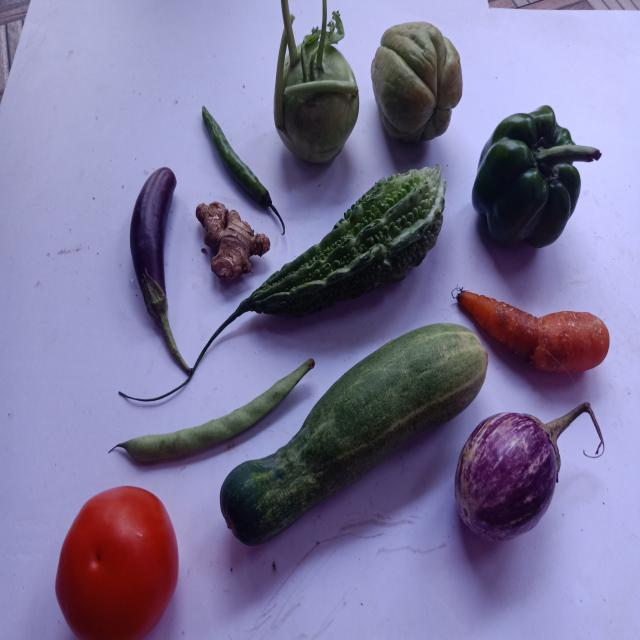Beans: (115, 358, 315, 462)
Bitter Gourd: (190, 165, 446, 376)
Brinjal: (129, 166, 190, 373)
Capsicum: (473, 105, 602, 246)
Carrot: (457, 290, 610, 372)
Chayote: (371, 21, 463, 140)
Cucumber: (220, 323, 488, 546)
Eggplant: (456, 402, 606, 541)
Ginger: (195, 201, 270, 279)
Green Chilly: (202, 105, 285, 234)
Tomato: (55, 487, 178, 640)
Turnip: (274, 0, 359, 162)
